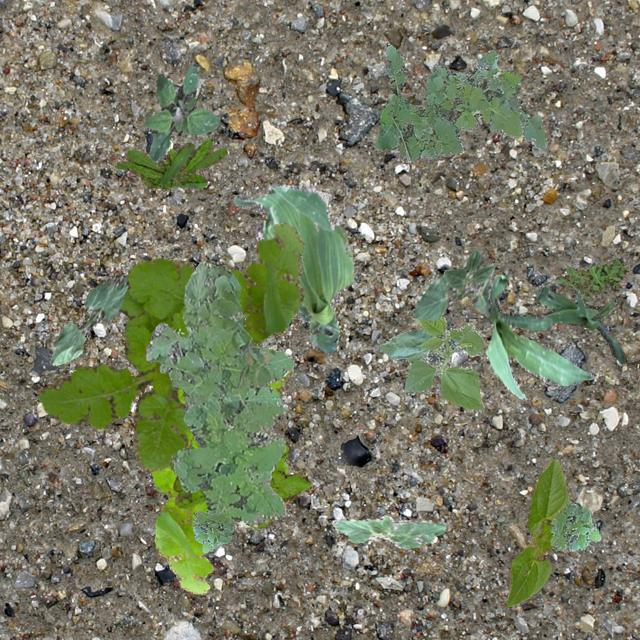crop: (232, 182, 354, 352), (484, 274, 594, 398), (376, 316, 484, 410), (506, 458, 568, 606), (49, 274, 128, 364), (534, 286, 624, 362), (412, 248, 494, 320), (330, 514, 444, 548)
weed: (35, 222, 304, 469), (144, 260, 294, 526), (150, 366, 292, 592), (374, 44, 546, 162), (168, 440, 310, 528), (144, 62, 218, 162), (114, 138, 225, 188), (554, 258, 628, 300), (550, 502, 600, 550), (192, 508, 234, 552)
